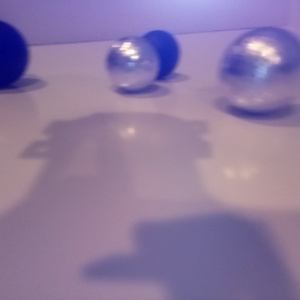alive_ball: (217, 28, 300, 114), (104, 35, 159, 91)
dead_ball: (137, 30, 180, 79), (1, 20, 30, 90)
